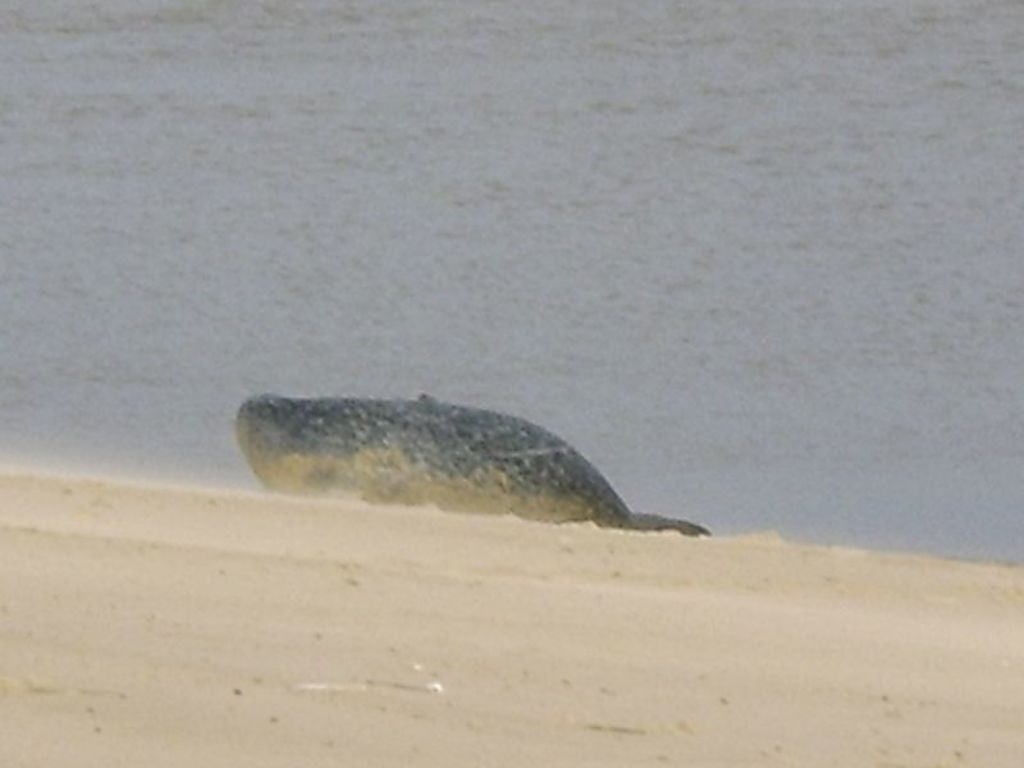Sea turtles: (232, 389, 707, 536)
